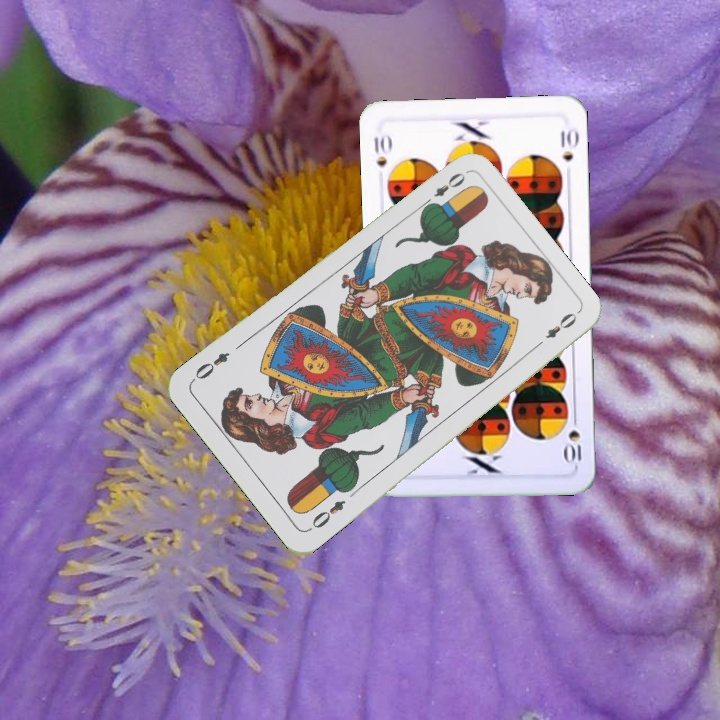EO: (418, 168, 469, 211), (304, 496, 348, 534)
S10: (562, 409, 584, 467), (369, 130, 394, 170)
